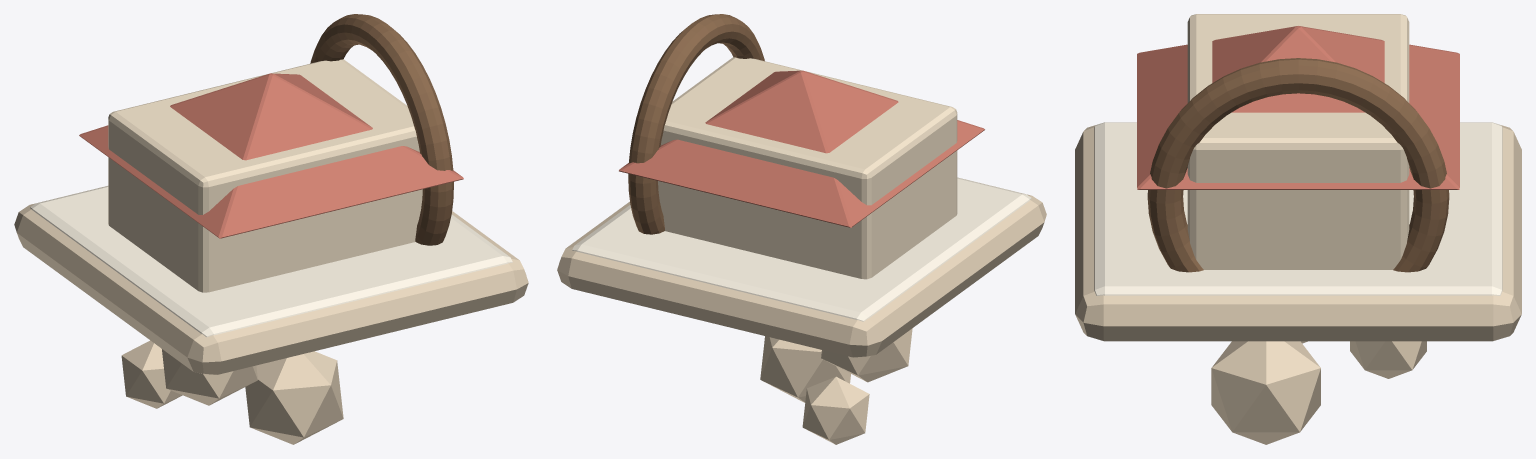
Rendered from island_workflow.glb.
3 renders of one model, left to right at view 1: azimuth 30°, elevation 25°; view 2: azimuth 150°, elevation 25°; view 3: azimuth 270°, elevation 25°, orthographic. The views are drawn at different scales.
Visible parts, largest first — view 1: island_workflow; view 2: island_workflow; view 3: island_workflow.
Part boxes in pixels (x1,y1,x2,y2): island_workflow: [14, 14, 528, 444]; island_workflow: [557, 14, 1046, 444]; island_workflow: [1075, 14, 1521, 444].
Size of the model in its own units: 1.56 by 1.7 by 1.56.
